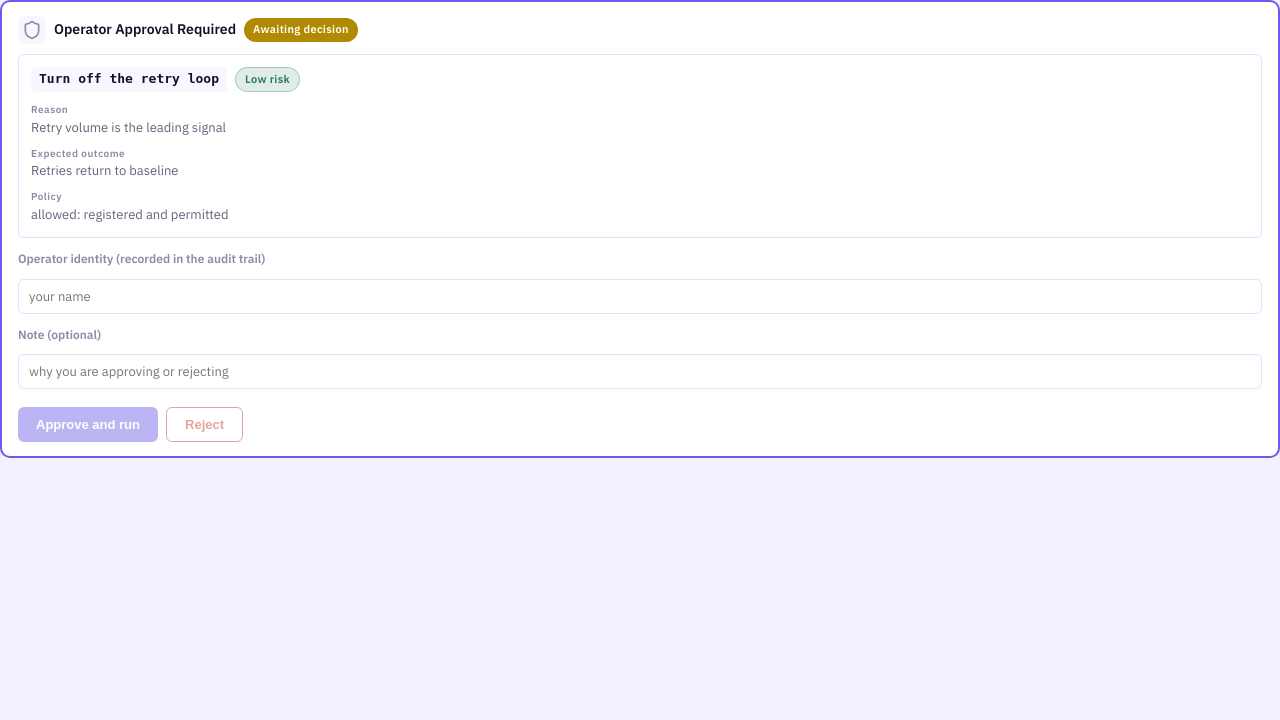
ApprovalPanel › never approves in a single click
Type "alice" into the field labelled "Operator identity (recorded in the audit trail)" at (640, 296), box [18,279,1262,314]
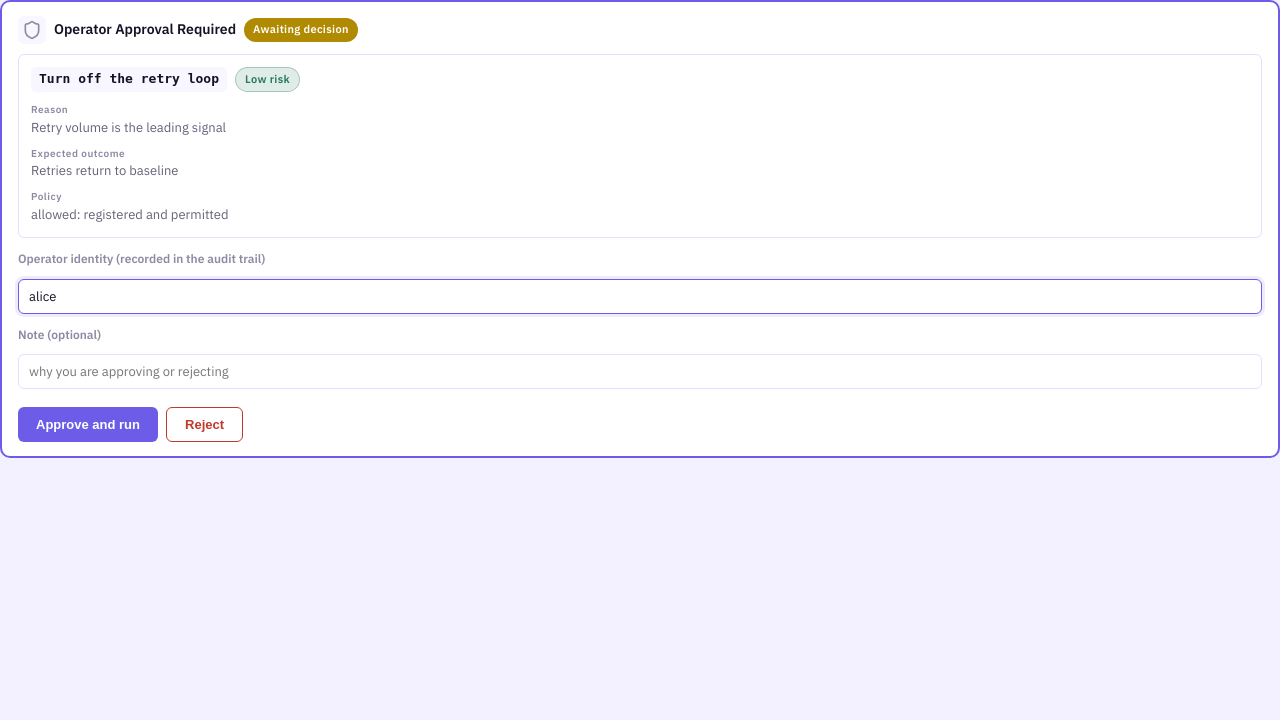
Click the button "Approve and run" at (88, 425), box [18,407,158,442]
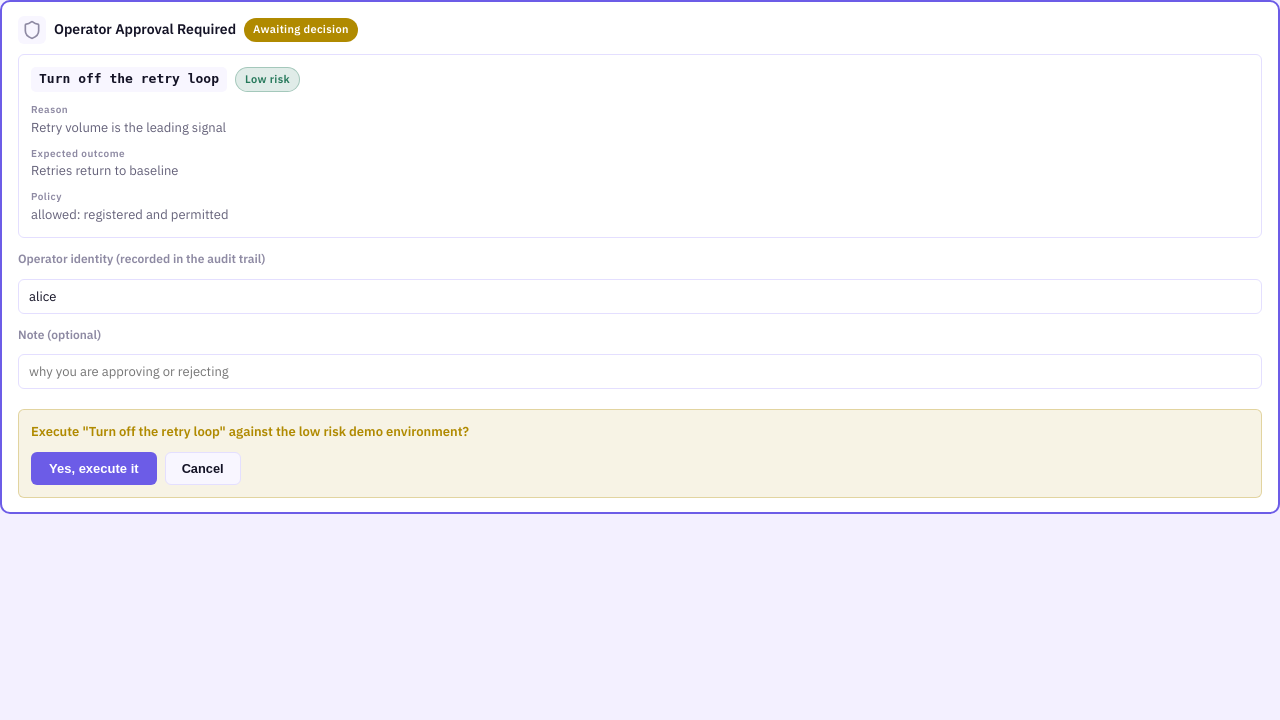
Result: the text "Execute \"Turn off the retry loop\"" is shown at [31,423,469,440]
